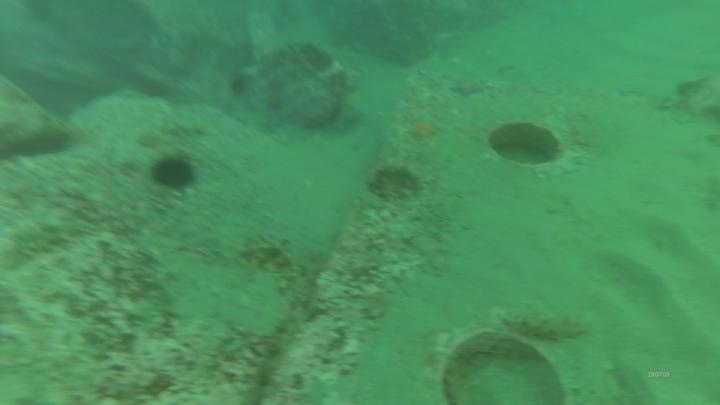echinus: (148, 152, 198, 193)
holothurian: (237, 236, 313, 313), (0, 212, 86, 269), (498, 308, 592, 345), (366, 161, 424, 202)
starfish: (403, 111, 444, 145), (447, 73, 489, 100)
